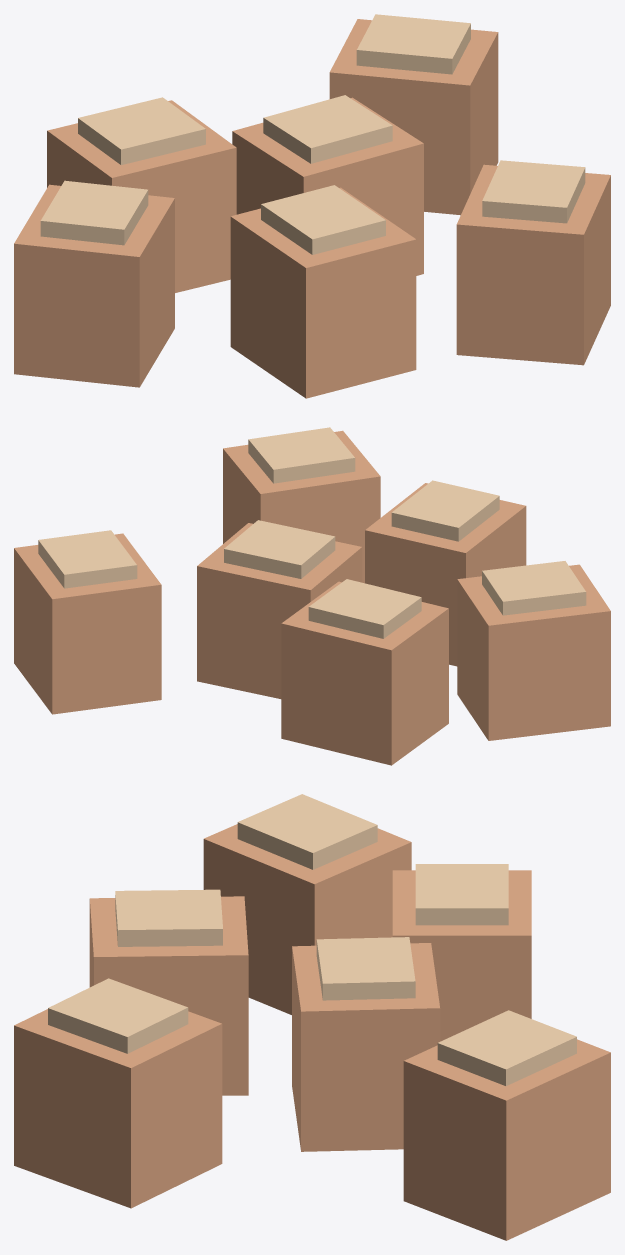
Rendered from chicken-chopped.glb.
The picture shows the model from 3 angles, top to bottom: view 1: azimuth 30°, elevation 25°; view 2: azimuth 150°, elevation 25°; view 3: azimuth 270°, elevation 25°; orthographic projection. The views are drawn at different scales.
Visible parts, largest first — view 1: chicken-chopped; view 2: chicken-chopped; view 3: chicken-chopped.
Part boxes in pixels (x1,y1,x2,y2): chicken-chopped: (14,14,610,398); chicken-chopped: (14,427,610,765); chicken-chopped: (14,794,610,1240).
Size of the model in its own units: 0.2325 by 0.056 by 0.1928.
Materials: 1 (1 with a texture image).
